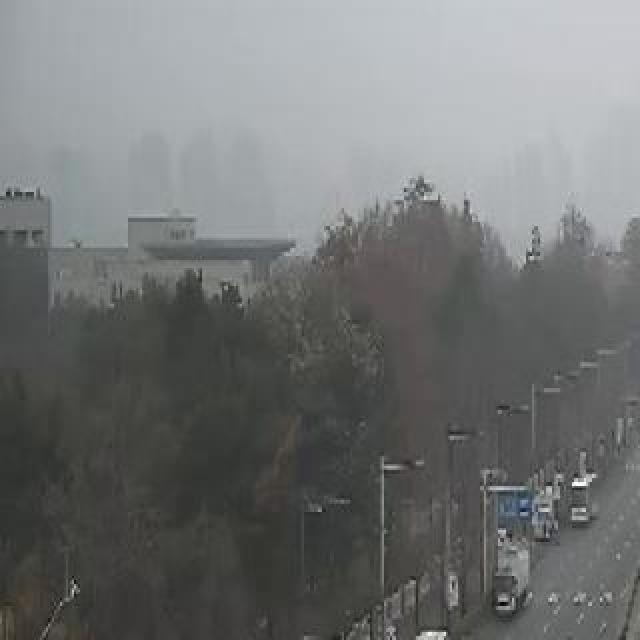truck: (496, 535, 532, 619), (570, 467, 602, 527)
